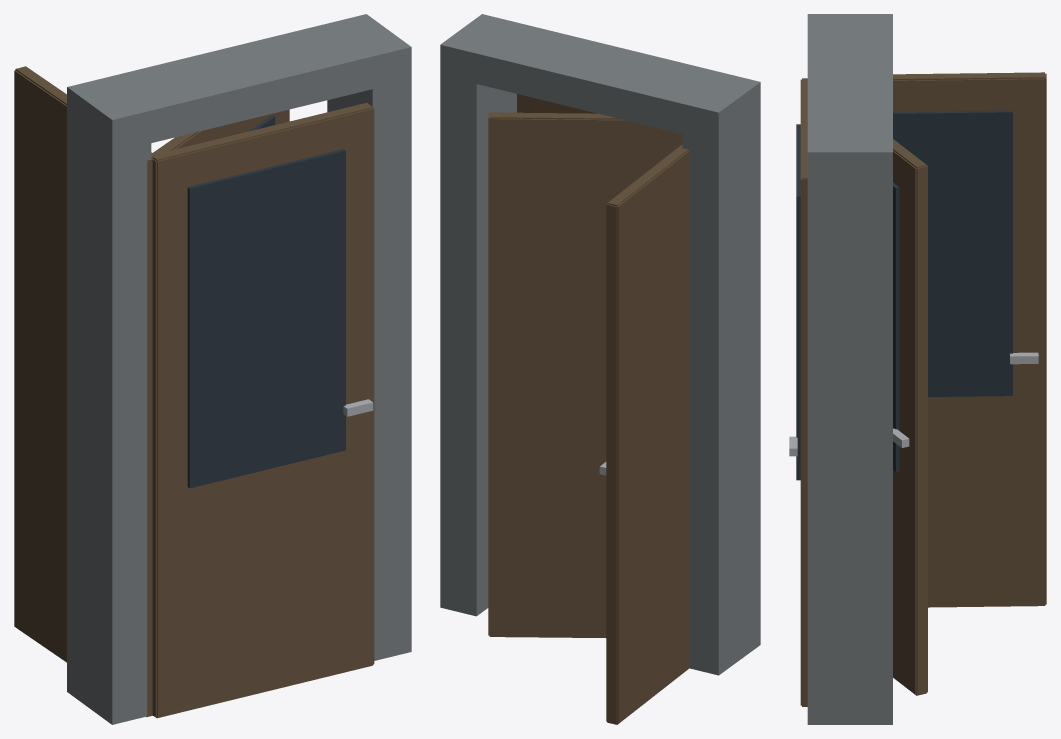
File: balcony_door.glb
3 renders of one model, left to right at view 1: azimuth 30°, elevation 25°; view 2: azimuth 150°, elevation 25°; view 3: azimuth 270°, elevation 25°, orthographic. The views are drawn at different scales.
Parts seen in each view (by area): view 1: door_closed_mesh, frame_mesh, door_anim_mesh, door_broken_mesh; view 2: frame_mesh, door_broken_mesh, door_anim_mesh, door_open_mesh, door_closed_mesh; view 3: door_open_mesh, frame_mesh, door_broken_mesh, door_closed_mesh, door_anim_mesh.
Part boxes in pixels (x1,y1,x2,y2): door_closed_mesh: [152, 102, 374, 718]; frame_mesh: [67, 14, 411, 724]; door_anim_mesh: [14, 66, 155, 717]; door_broken_mesh: [152, 109, 289, 715]; frame_mesh: [440, 14, 760, 675]; door_broken_mesh: [488, 112, 682, 637]; door_anim_mesh: [599, 144, 689, 724]; door_open_mesh: [605, 149, 688, 724]; door_closed_mesh: [517, 94, 596, 113]; door_open_mesh: [893, 74, 1046, 607]; frame_mesh: [807, 14, 892, 724]; door_broken_mesh: [803, 78, 927, 695]; door_closed_mesh: [789, 78, 807, 706]; door_anim_mesh: [893, 72, 1046, 605].
Size of what is drawn, in the model's own units: 1.15 by 2.23 by 0.9052.
